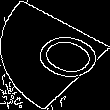O_SE: (8, 23, 102, 87)
